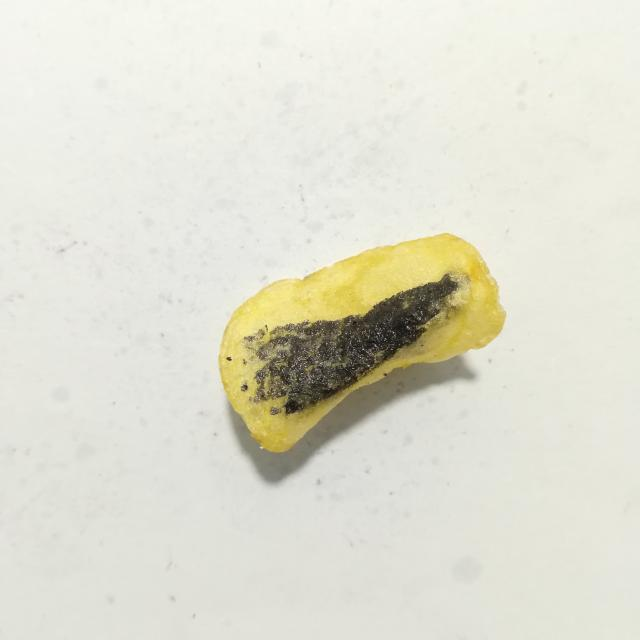chip: (219, 234, 505, 452)
damaged: (254, 275, 459, 414), (269, 407, 281, 415), (240, 383, 248, 391), (226, 356, 232, 360)
semi-damaged: (391, 272, 471, 360), (242, 325, 271, 390)
